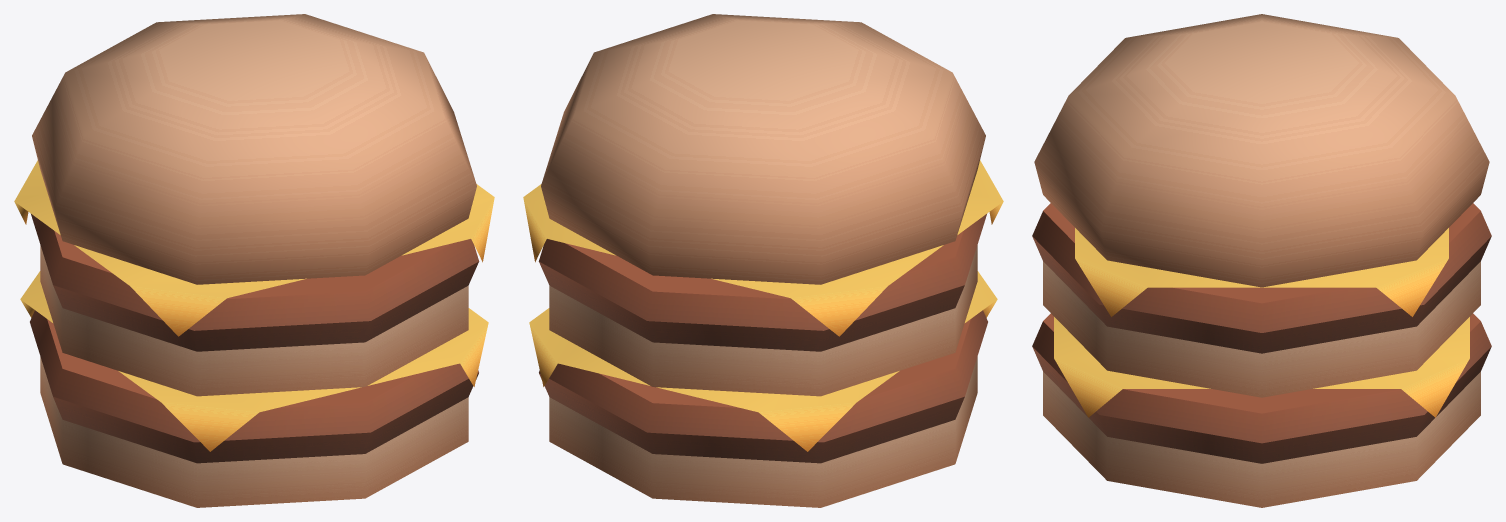
File: burger-cheese-double.glb
3 renders of one model, left to right at view 1: azimuth 30°, elevation 25°; view 2: azimuth 150°, elevation 25°; view 3: azimuth 270°, elevation 25°, orthographic.
Parts seen in each view (by area): view 1: bun-bottom; view 2: bun-bottom; view 3: bun-bottom.
Part boxes in pixels (x1,y1,x2,y2): bun-bottom: (14,14,494,507); bun-bottom: (523,14,1003,507); bun-bottom: (1032,14,1491,507).
Bounding box in the file's own units: 0.378 × 0.32 × 0.378.
1 material, 1 textured.
